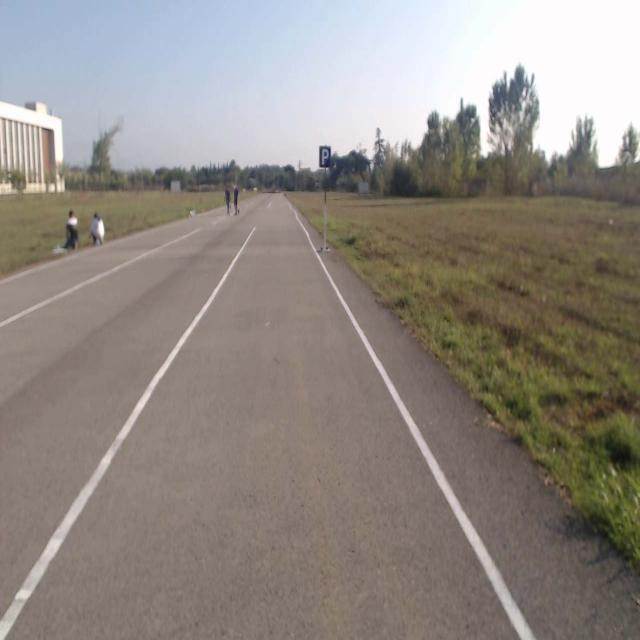park: (320, 146, 330, 168)
